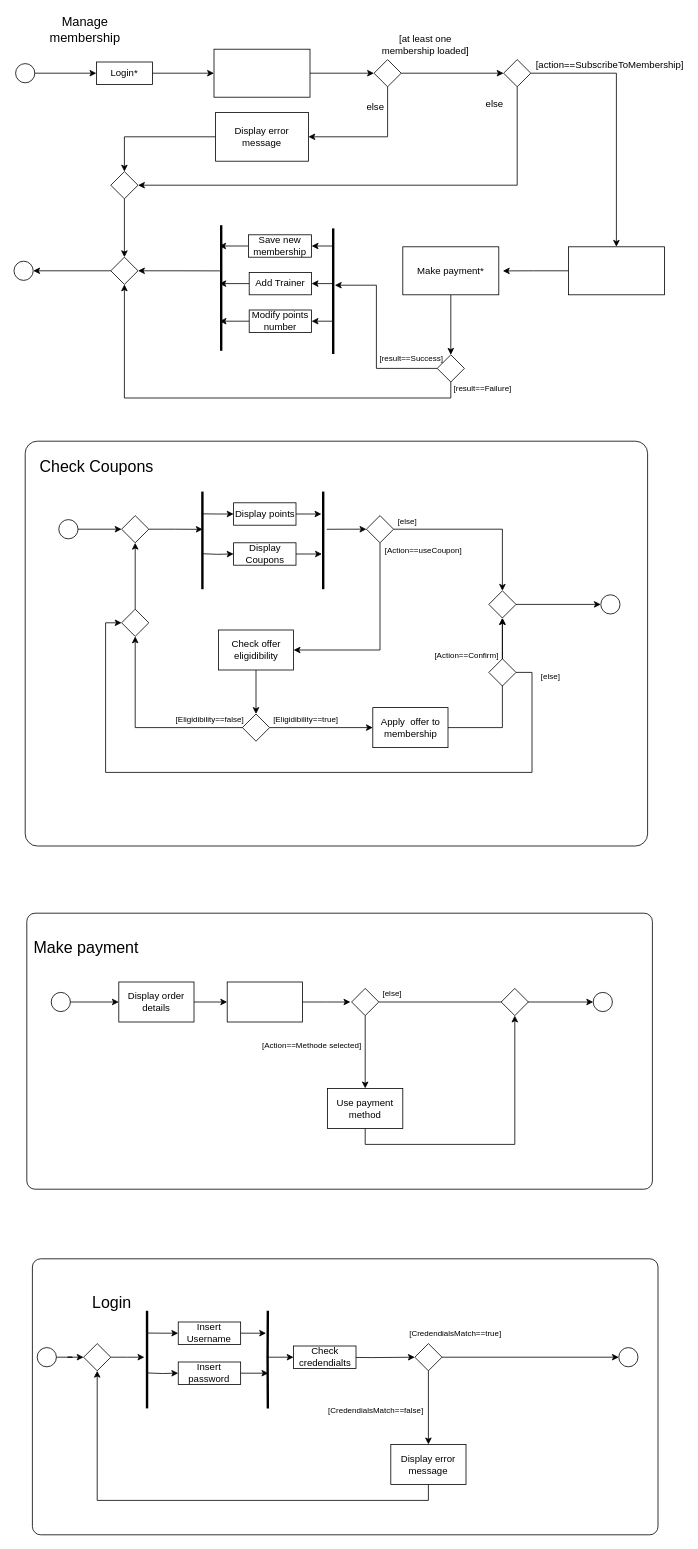
The diagram is 698 pixels wide and 1549 high, and some of its shapes have lost their labels. Here are the shapes that lost their labels. From the top down, the centre of each, then its label:
At (x=261, y=72): "DIsplay available memberships".
At (x=616, y=270): "Check Coupons*".
At (x=264, y=1001): "Display payment methods".
